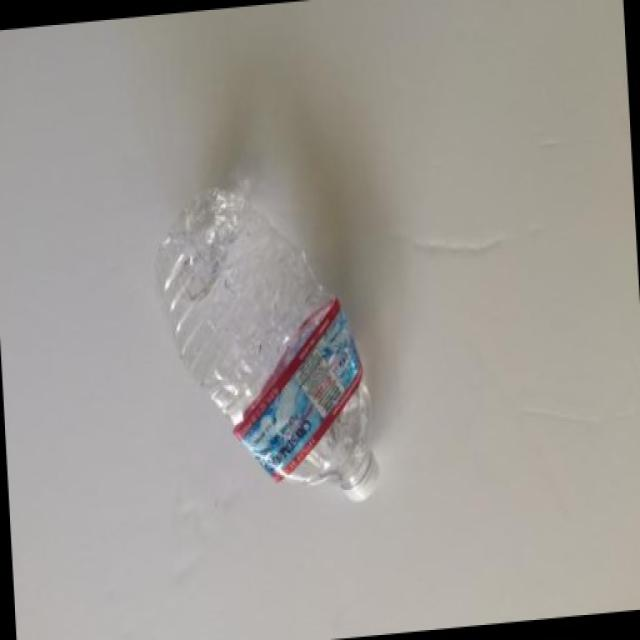plastico: (141, 162, 452, 524)
